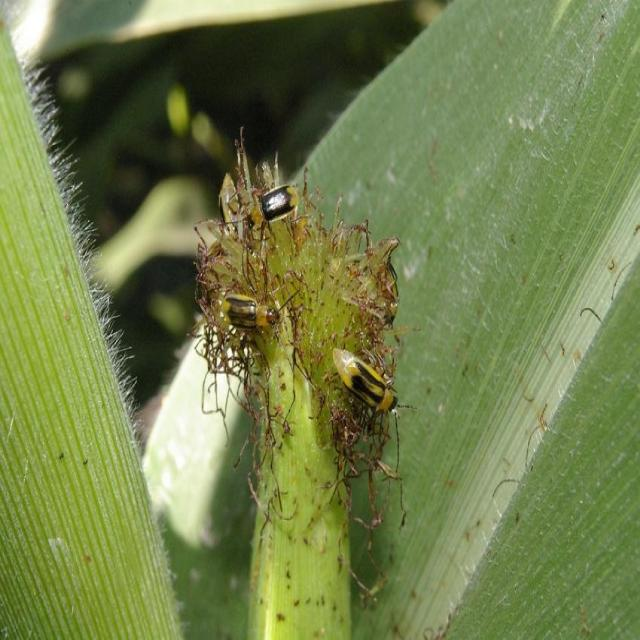trips: (337, 344, 417, 477), (218, 184, 300, 250), (212, 287, 304, 343)
